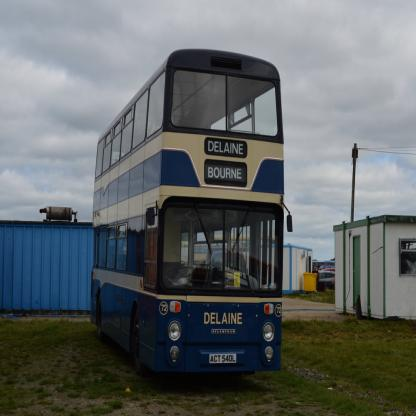Bus: (89, 44, 294, 378)
